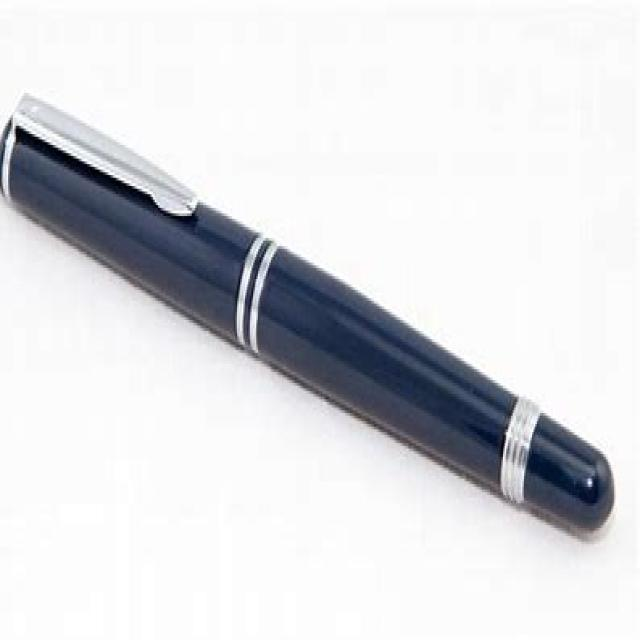pen: (0, 83, 616, 540)
